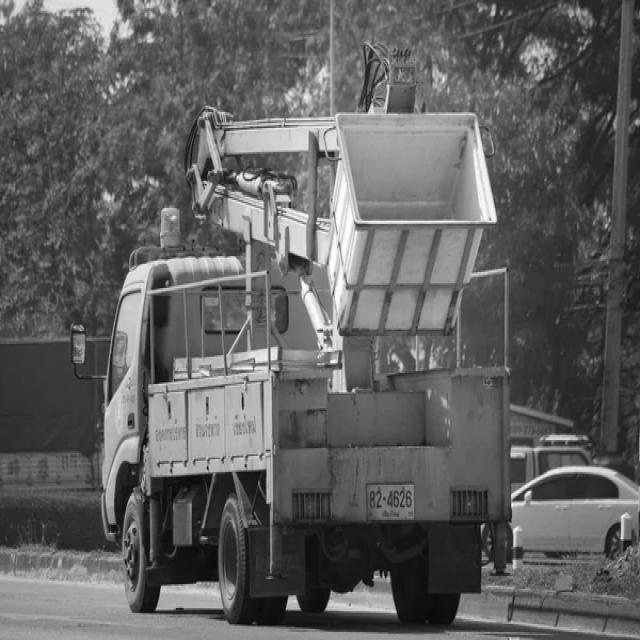Truck: (101, 53, 512, 626)
